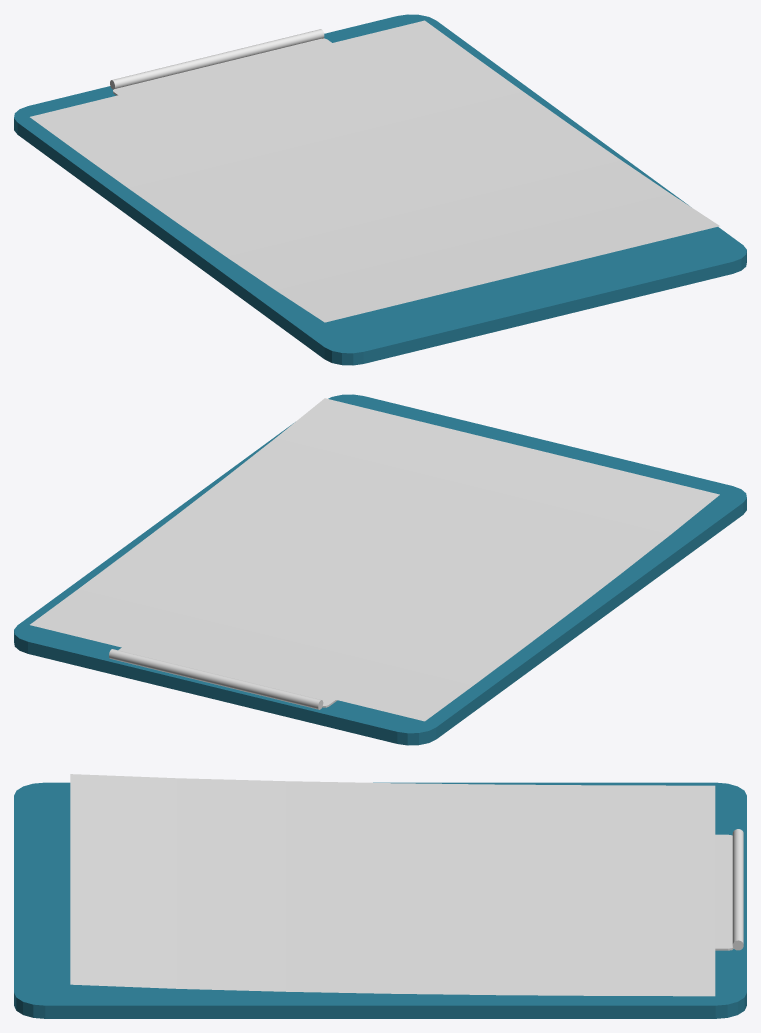
Rendered from clipboard 1.fbx.
The picture shows the model from 3 angles, top to bottom: view 1: azimuth 30°, elevation 25°; view 2: azimuth 150°, elevation 25°; view 3: azimuth 270°, elevation 25°; orthographic projection. The views are drawn at different scales.
Parts seen in each view (by area): view 1: Plane, Cube, Cylinder, Cube.085; view 2: Plane, Cube, Cylinder, Cube.085; view 3: Plane, Cube, Cube.085, Cylinder.
Boxes of the visible parts, left/top/right/bottom form: Plane: left=30, top=20, right=719, bottom=322; Cube: left=14, top=14, right=746, bottom=365; Cylinder: left=110, top=29, right=324, bottom=89; Cube.085: left=113, top=38, right=331, bottom=95; Plane: left=30, top=398, right=719, bottom=721; Cube: left=14, top=394, right=746, bottom=745; Cylinder: left=109, top=649, right=323, bottom=709; Cube.085: left=118, top=647, right=337, bottom=707; Plane: left=70, top=774, right=715, bottom=996; Cube: left=14, top=782, right=746, bottom=1018; Cube.085: left=715, top=834, right=733, bottom=950; Cylinder: left=732, top=829, right=743, bottom=950.
Size of the model in its own units: 22.86 by 1.34 by 31.75.
